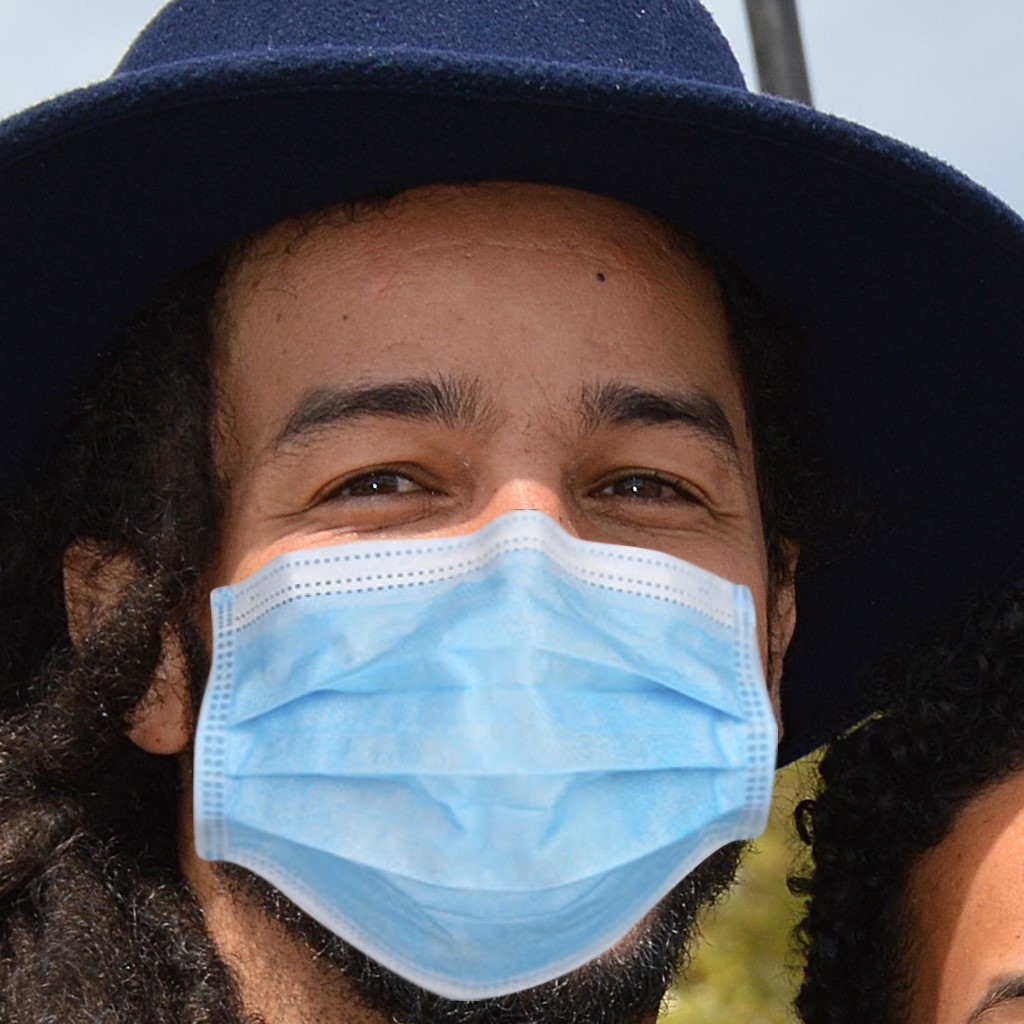con_mascara: (154, 176, 779, 970)
